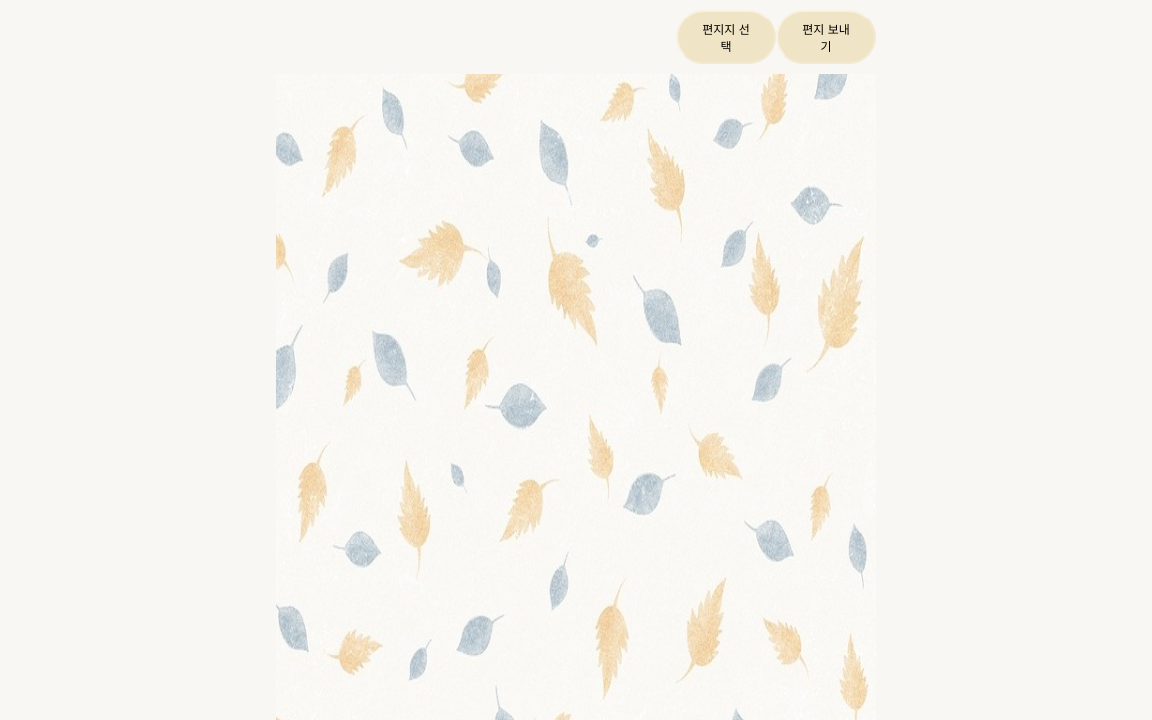
Test case: NewLetter Component › render 편지 배송을 시작합니다. message if have letterId
The width and height of the screenshot is (1152, 720).
Click the button "편지 보내기" at (826, 37), box x1=776 y1=10 x2=876 y2=64
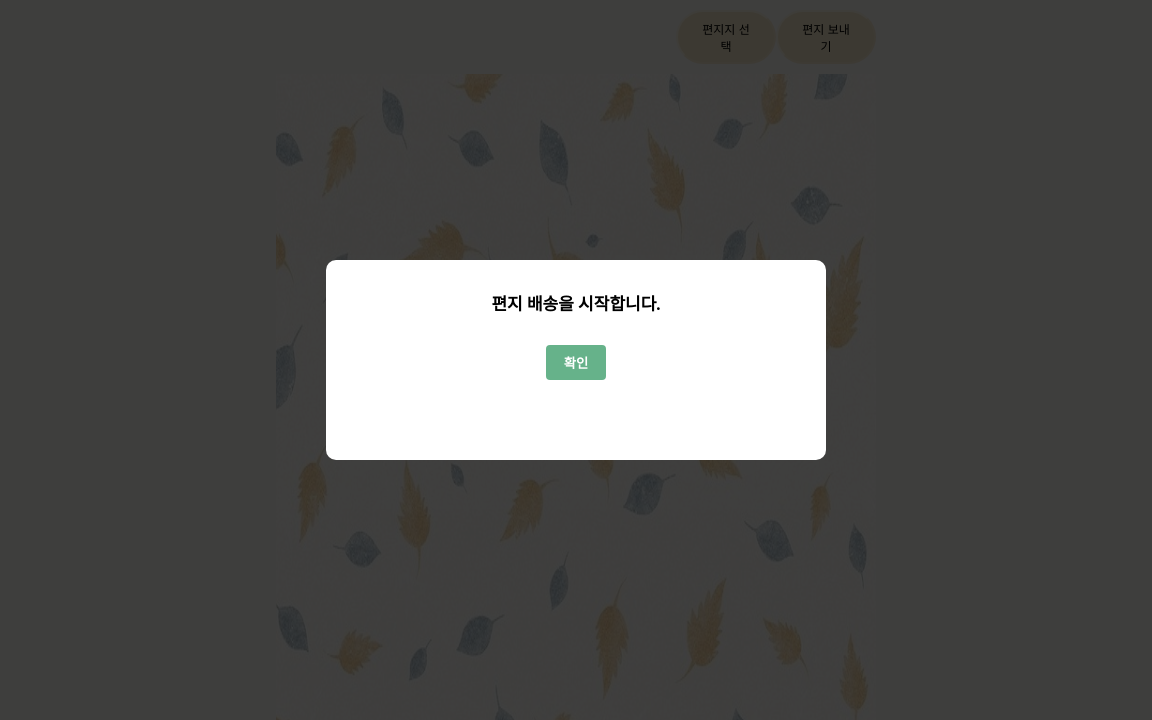
Now the text "편지 배송을 시작합니다." is shown, box x1=491 y1=290 x2=661 y2=315
